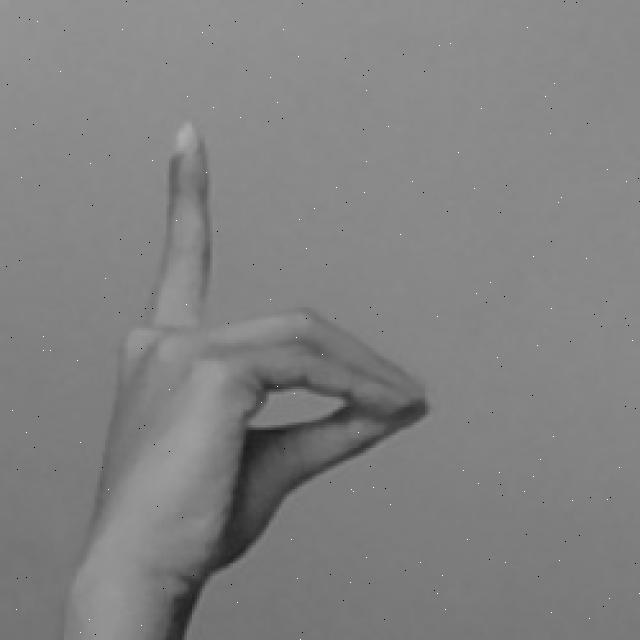D: (59, 119, 439, 640)
